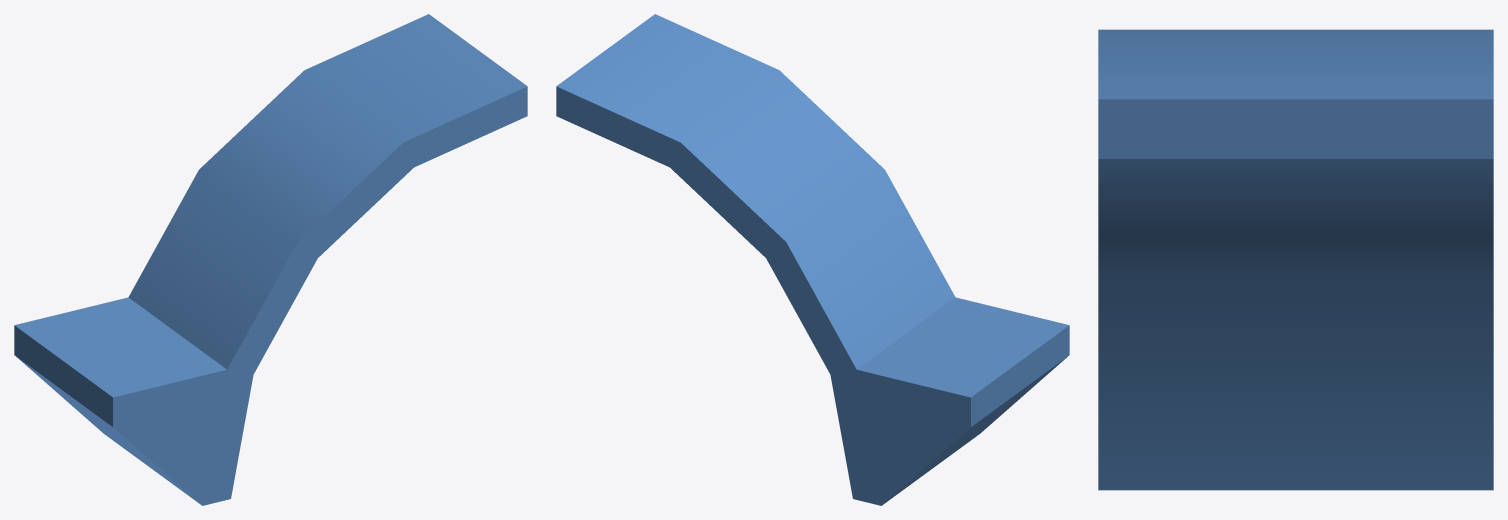
Rendered from original-23.obj.
3 views of the same model, side by side, from view 1: azimuth 30°, elevation 25°; view 2: azimuth 150°, elevation 25°; view 3: azimuth 270°, elevation 25° (orthographic). The views are drawn at different scales.
Visible parts, largest first — view 1: mesh27/mesh27-geometry#mesh27-geometry; view 2: mesh27/mesh27-geometry#mesh27-geometry; view 3: mesh27/mesh27-geometry#mesh27-geometry.
Part boxes in pixels (bbox=[...]): mesh27/mesh27-geometry#mesh27-geometry: bbox=[14, 14, 527, 505]; mesh27/mesh27-geometry#mesh27-geometry: bbox=[556, 14, 1069, 505]; mesh27/mesh27-geometry#mesh27-geometry: bbox=[1098, 29, 1493, 490].
Size of the model in its own units: 0.1159 by 0.091 by 0.0479.
